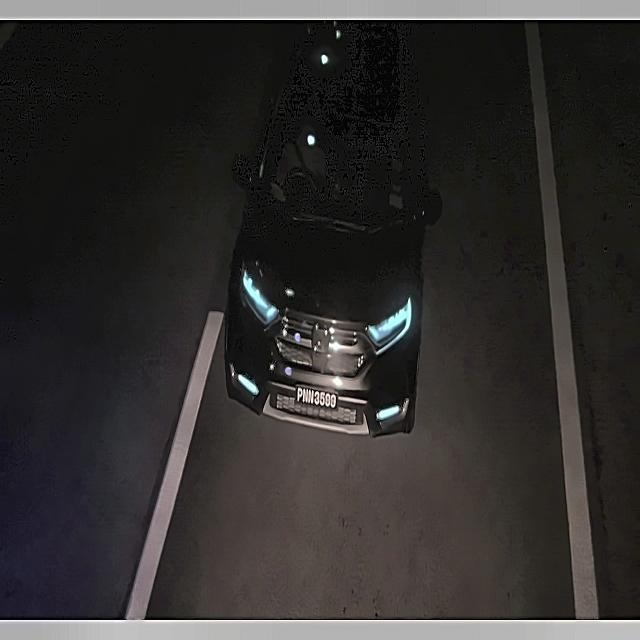car: (292, 383, 342, 416)
